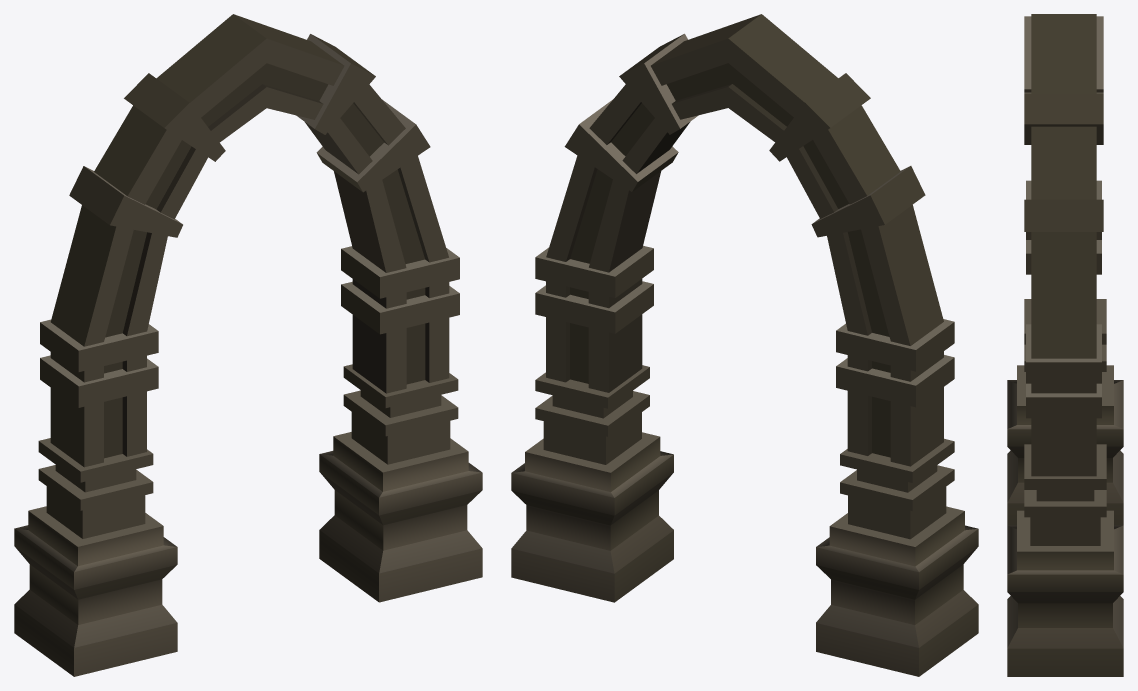
Rendered from SD_Env_Undead_Pillar_01.fbx.
The picture shows the model from 3 angles, left to right: view 1: azimuth 30°, elevation 25°; view 2: azimuth 150°, elevation 25°; view 3: azimuth 270°, elevation 25°; orthographic projection. The views are drawn at different scales.
Visible parts, largest first — view 1: SD_Env_Undead_Pillar_01; view 2: SD_Env_Undead_Pillar_01; view 3: SD_Env_Undead_Pillar_01.
Boxes of the visible parts, x1,y1,x2,y2 form: SD_Env_Undead_Pillar_01: (14, 14, 482, 676); SD_Env_Undead_Pillar_01: (511, 14, 978, 676); SD_Env_Undead_Pillar_01: (1007, 14, 1123, 676).
Size of the model in its own units: 6.69 by 9.08 by 1.69.
